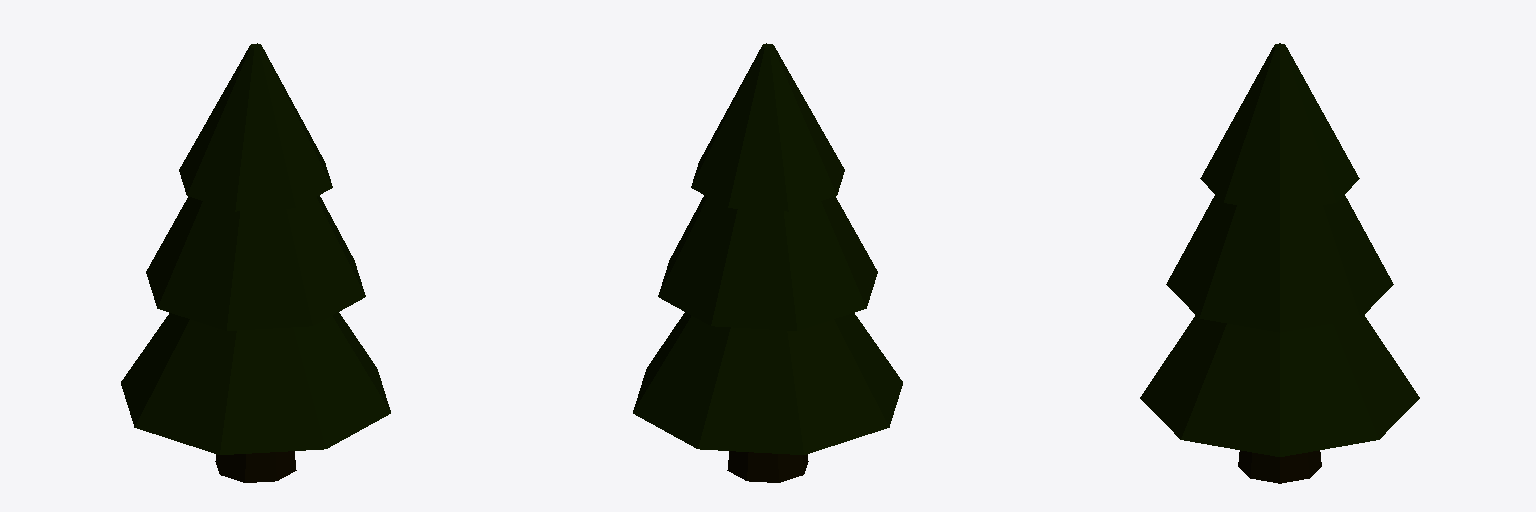
The model's file is pinetree.obj.
3 renders of one model, left to right at view 1: azimuth 30°, elevation 25°; view 2: azimuth 150°, elevation 25°; view 3: azimuth 270°, elevation 25°, orthographic.
Parts seen in each view (by area): view 1: Cylinder; view 2: Cylinder; view 3: Cylinder.
Part boxes in pixels (x1,y1,x2,y2): Cylinder: (121, 43, 390, 482); Cylinder: (633, 43, 902, 482); Cylinder: (1140, 43, 1419, 483).
Bounding box in the file's own units: 2.96 × 4.9 × 2.96.